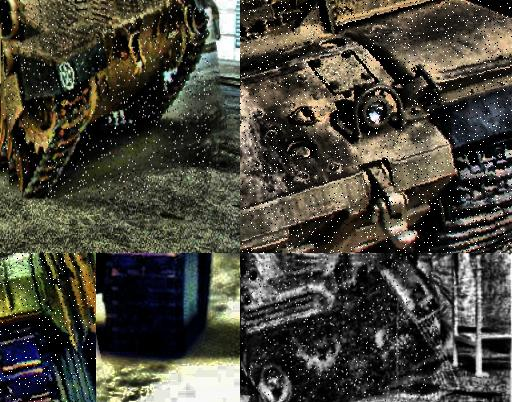tanks: (241, 1, 512, 254), (3, 1, 212, 200), (243, 255, 441, 402), (1, 254, 96, 402), (95, 254, 212, 358)
